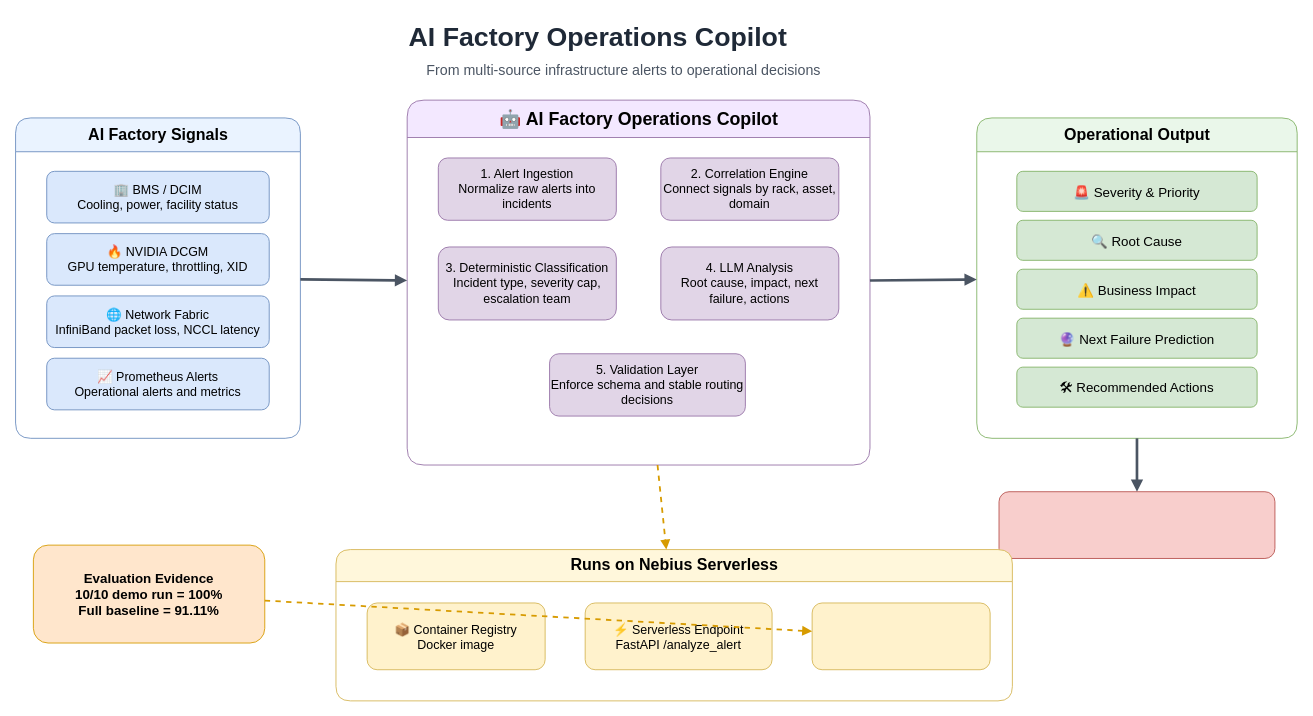
Some shapes in this 1313 by 716 pixel diagram are drawn without their labels. Here are the shapes that lost their labels. From the top down, the centre of each, then its label:
At (1136,524): "👷 NOC · Facilities · Network · SRE".
At (900,636): "📊 Serverless Job evaluate.py accuracy run".
